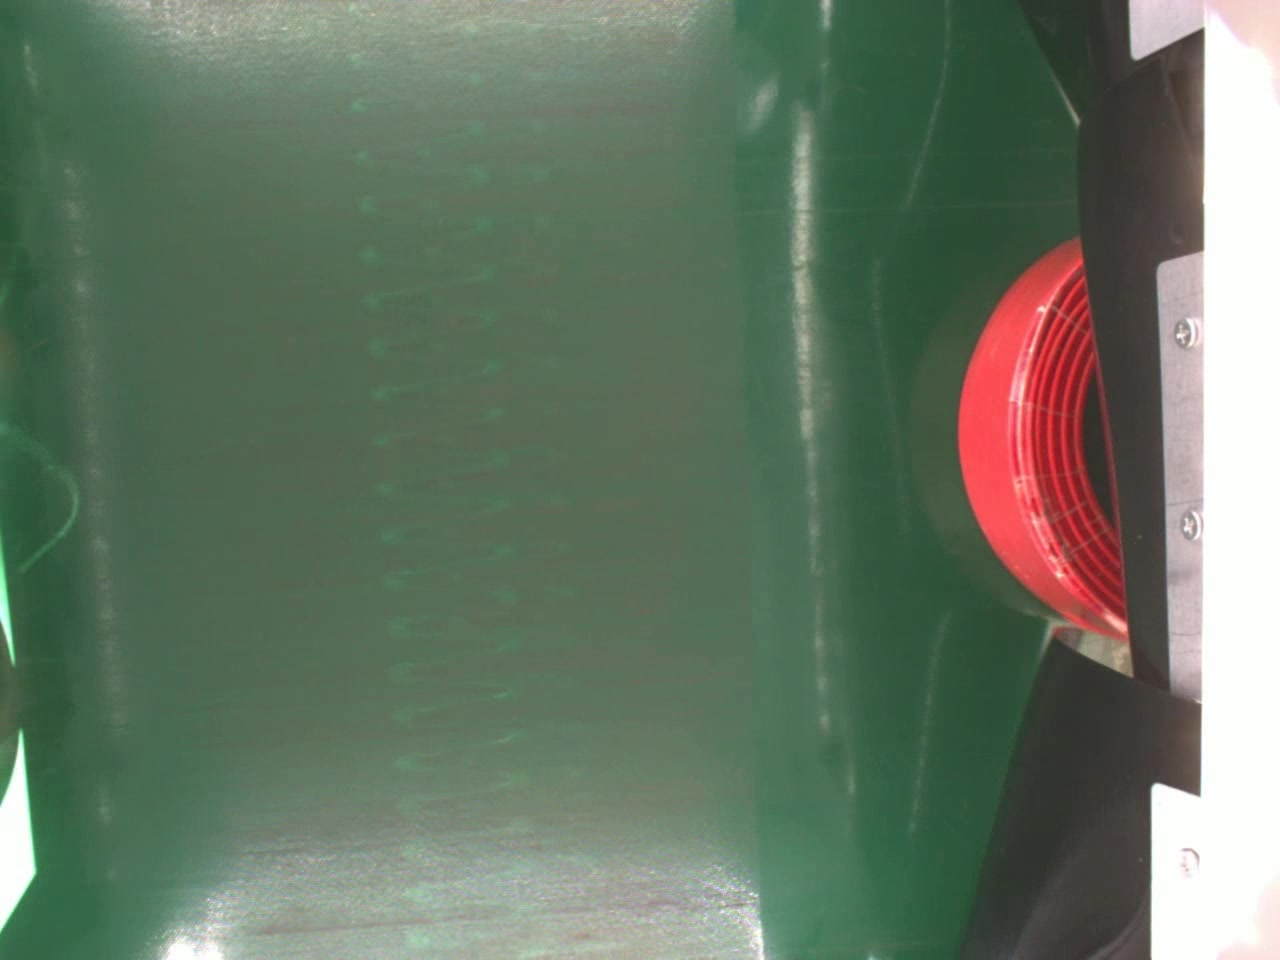red: (956, 228, 1128, 642)
